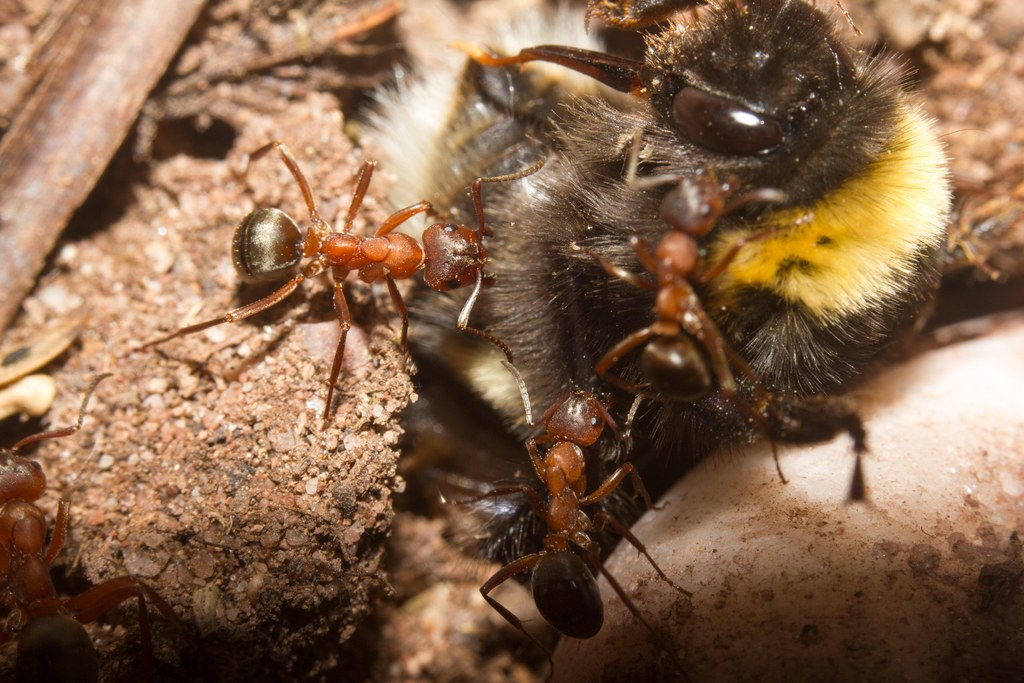bee: (353, 0, 955, 485), (118, 150, 557, 424), (557, 124, 794, 498), (478, 350, 692, 682), (0, 366, 183, 682)
insect: (148, 148, 531, 420), (449, 375, 717, 679), (0, 366, 209, 682), (582, 131, 805, 409)
